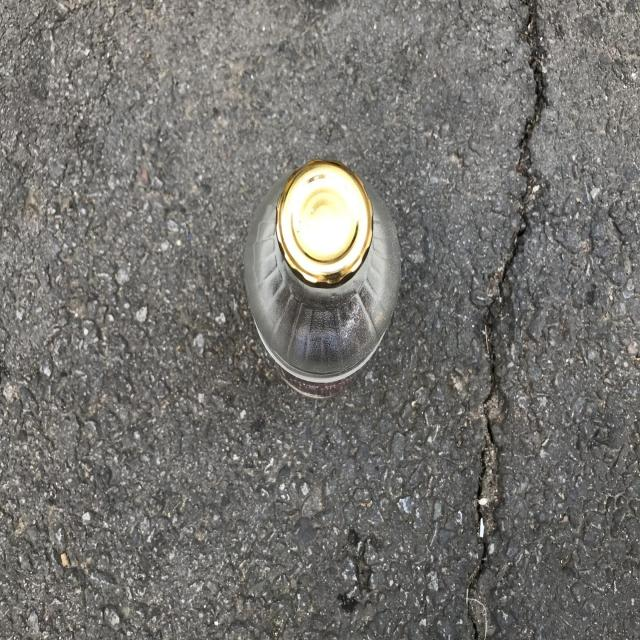glass: (244, 158, 401, 397)
